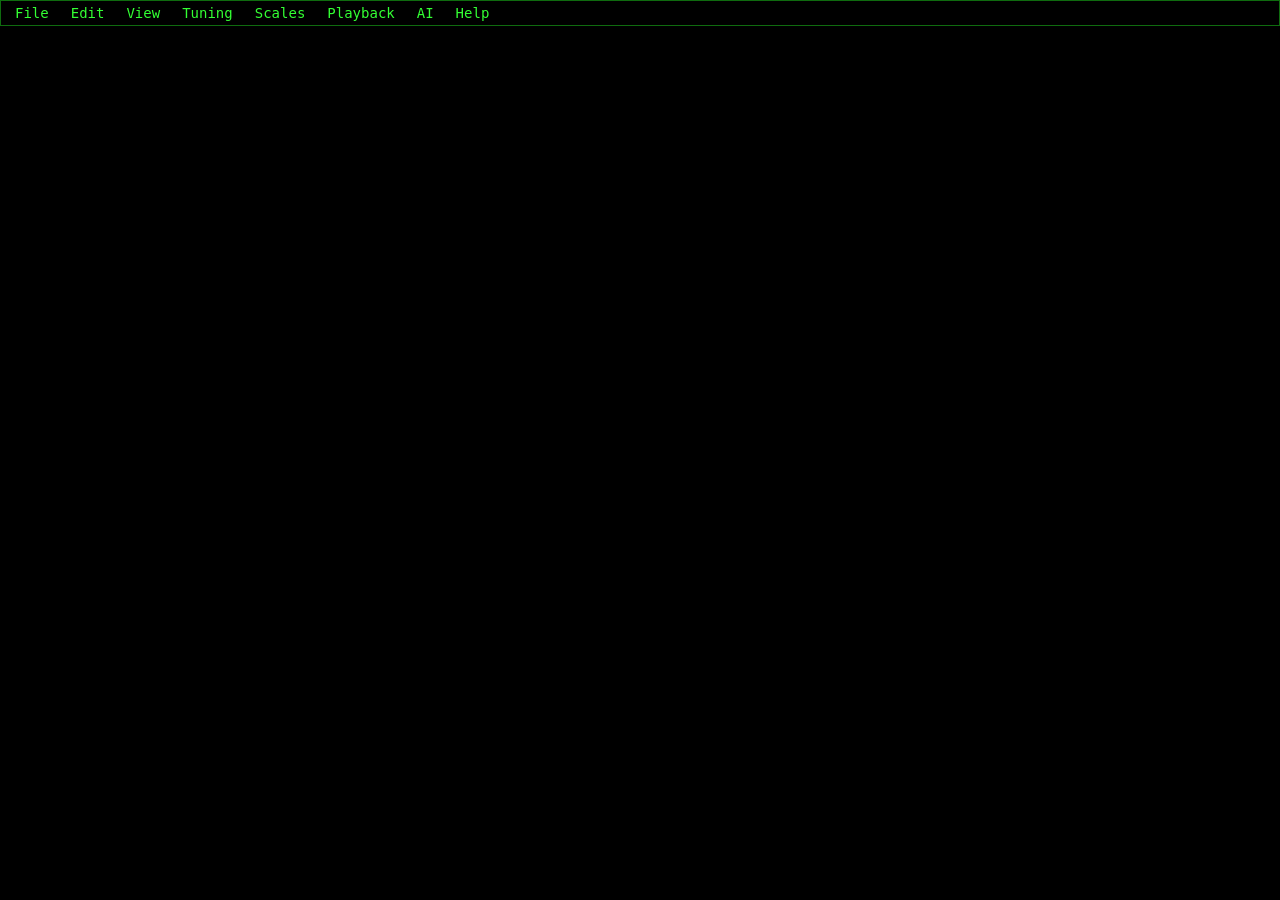
MenuBar › Help > Keyboard shortcuts opens the info dialog with the table
Click the menu item "Help".
click(472, 13)  # box left=446, top=1, right=499, bottom=25
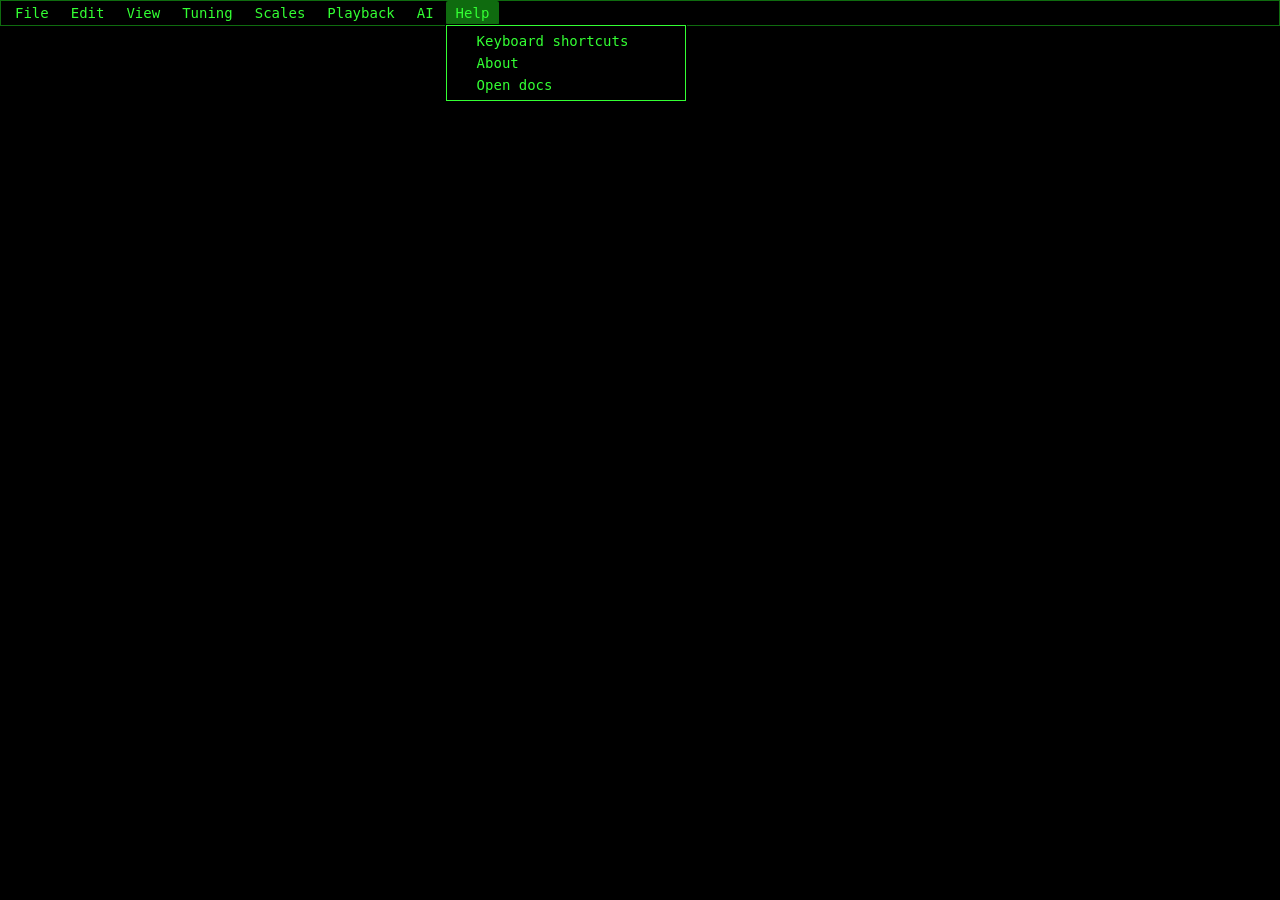
Click the menu item "Keyboard shortcuts".
click(566, 41)  # box left=447, top=30, right=685, bottom=52
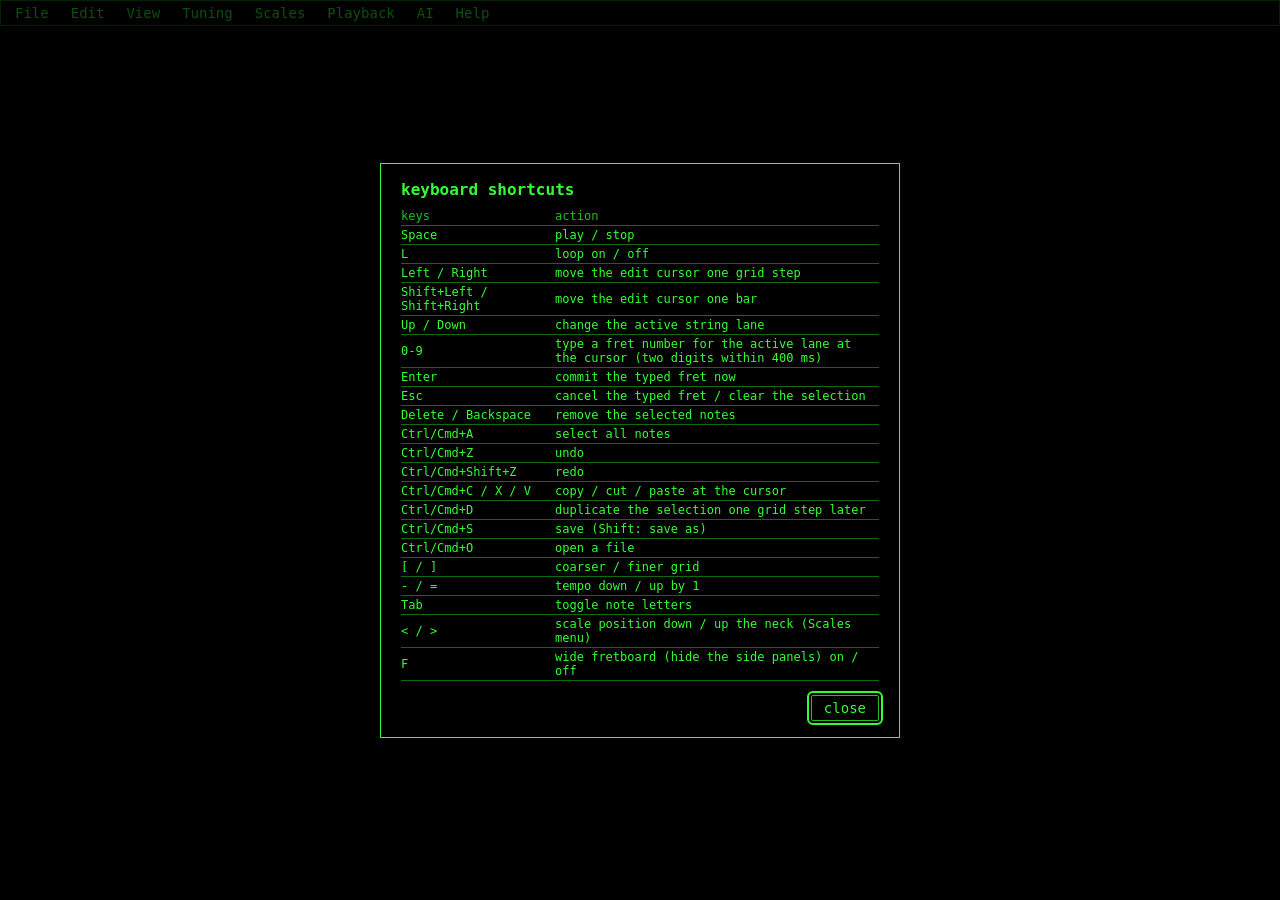
Expected: the dialog shows "keyboard shortcuts", left=401, top=180, right=574, bottom=198
Expected: the dialog shows "play / stop", left=555, top=228, right=634, bottom=242
Click the button "close".
click(845, 708)  # box left=811, top=694, right=879, bottom=720
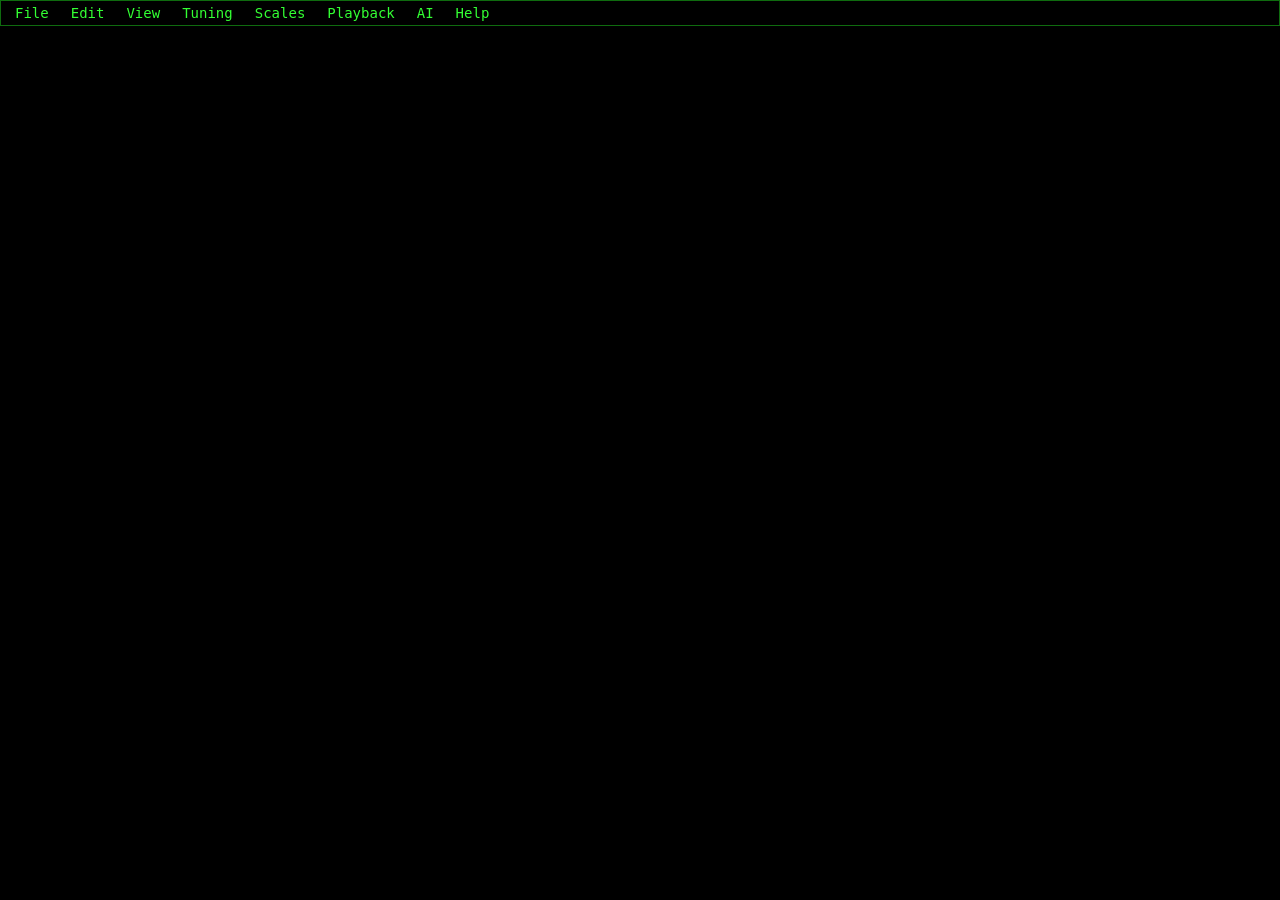
Expected: the dialog is gone
